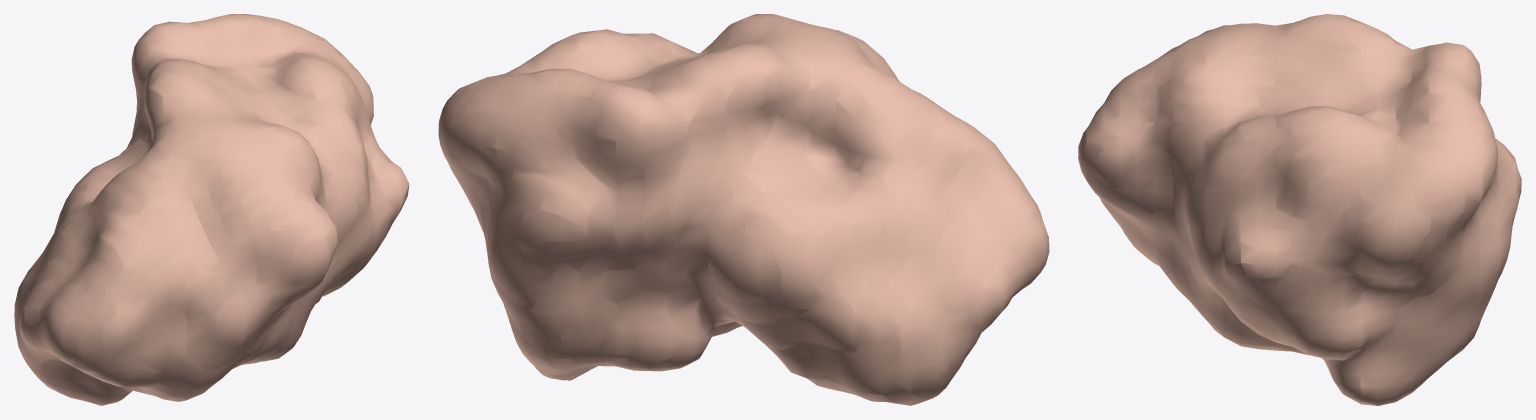
File: AntiTrypsin_2.dae
The picture shows the model from 3 angles, left to right: view 1: azimuth 30°, elevation 25°; view 2: azimuth 150°, elevation 25°; view 3: azimuth 270°, elevation 25°; orthographic projection. The views are drawn at different scales.
Parts seen in each view (by area): view 1: CoarseMS_1atu; view 2: CoarseMS_1atu; view 3: CoarseMS_1atu.
Boxes of the visible parts, left/top/right/bottom form: CoarseMS_1atu: left=14, top=14, right=409, bottom=405; CoarseMS_1atu: left=438, top=14, right=1049, bottom=405; CoarseMS_1atu: left=1078, top=14, right=1521, bottom=405.
Bounding box in the file's own units: 71.53 × 47.9 × 61.12.
